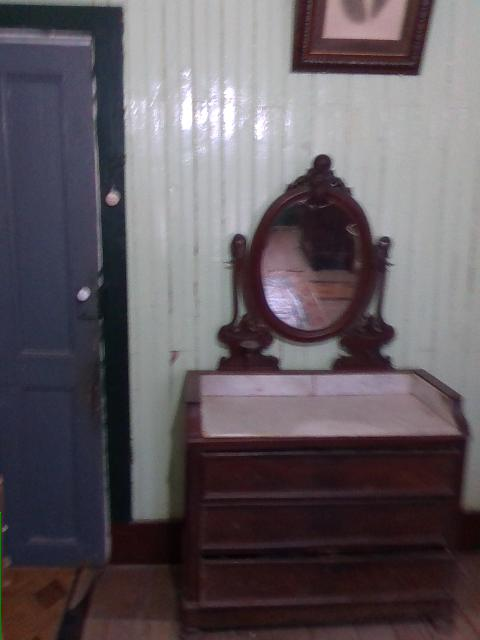door: (0, 2, 134, 571)
